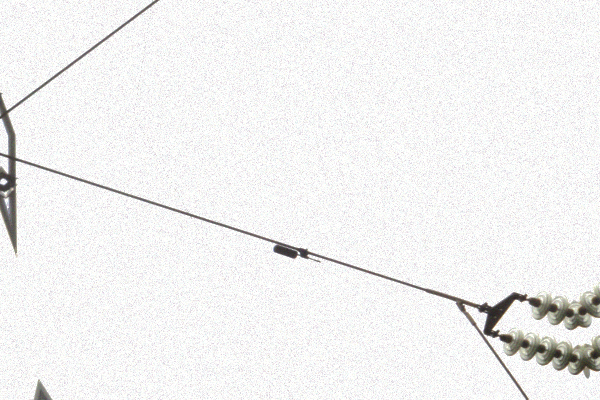damper_defect: (270, 244, 321, 264)
